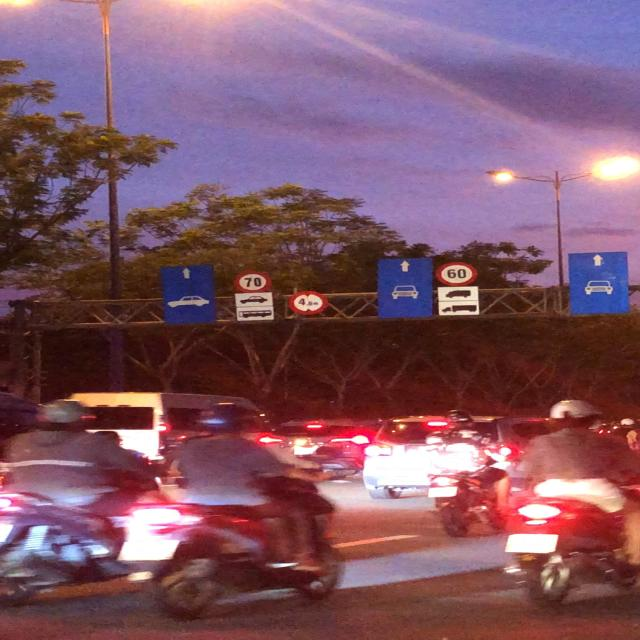Bien bao han che chieu cao: (284, 290, 330, 318)
Bien bao toc do toi da cho phep: (435, 261, 482, 288), (232, 268, 272, 294)
